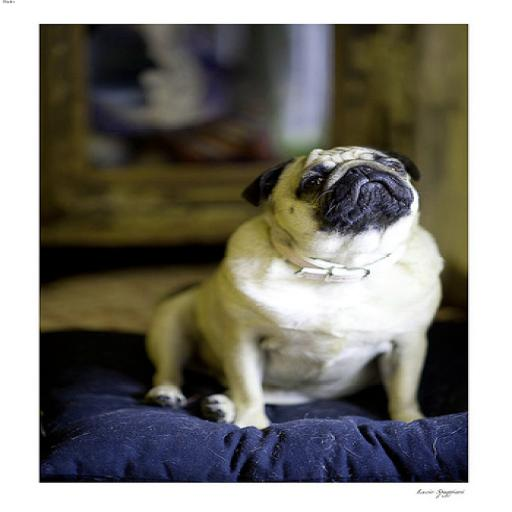dog_face: (236, 136, 431, 242)
